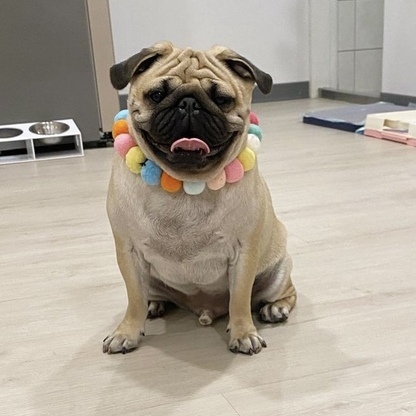Pug: (96, 35, 304, 361)
